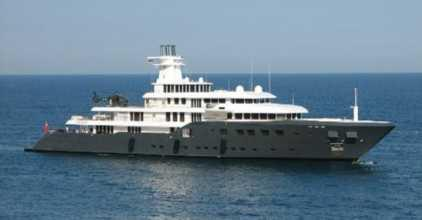yacht: (28, 53, 401, 157)
